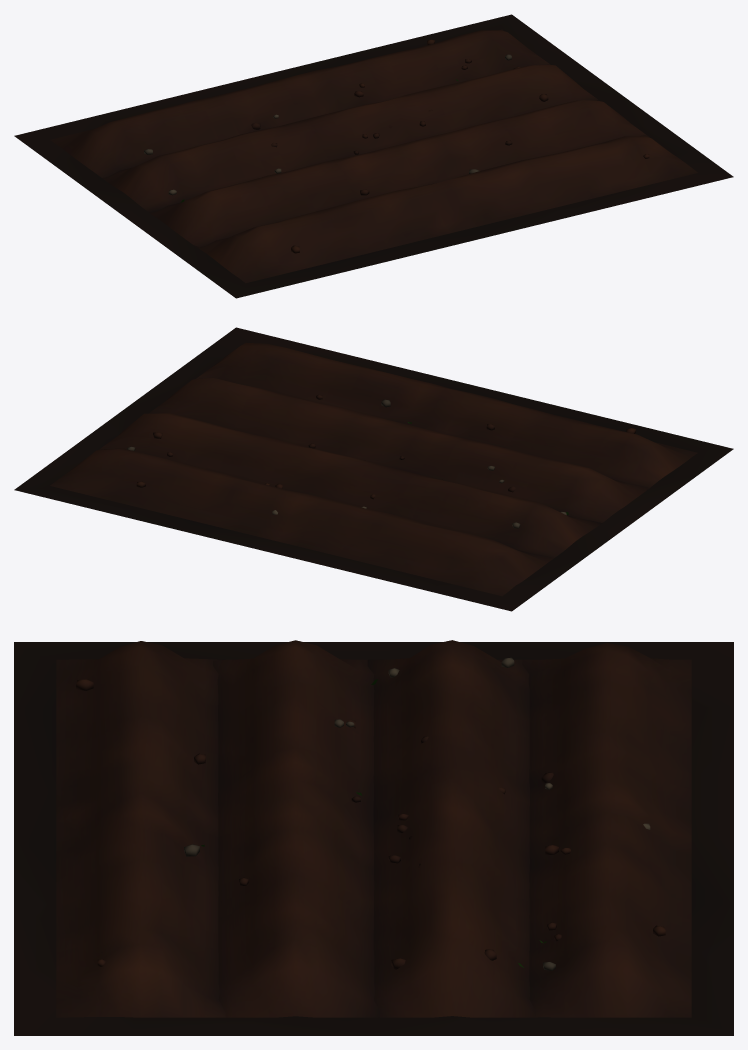
File: fm_bed_wet.glb
3 renders of one model, top to bottom at view 1: azimuth 30°, elevation 25°; view 2: azimuth 150°, elevation 25°; view 3: azimuth 270°, elevation 25°, orthographic. The views are drawn at different scales.
Parts seen in each view (by area): view 1: fm_bed_wet; view 2: fm_bed_wet; view 3: fm_bed_wet.
Part boxes in pixels (left/top/right/bottom): fm_bed_wet: left=14, top=14, right=733, bottom=298; fm_bed_wet: left=14, top=327, right=733, bottom=611; fm_bed_wet: left=14, top=640, right=733, bottom=1035.
Size of the model in its own units: 4.4 by 0.2502 by 3.4.
